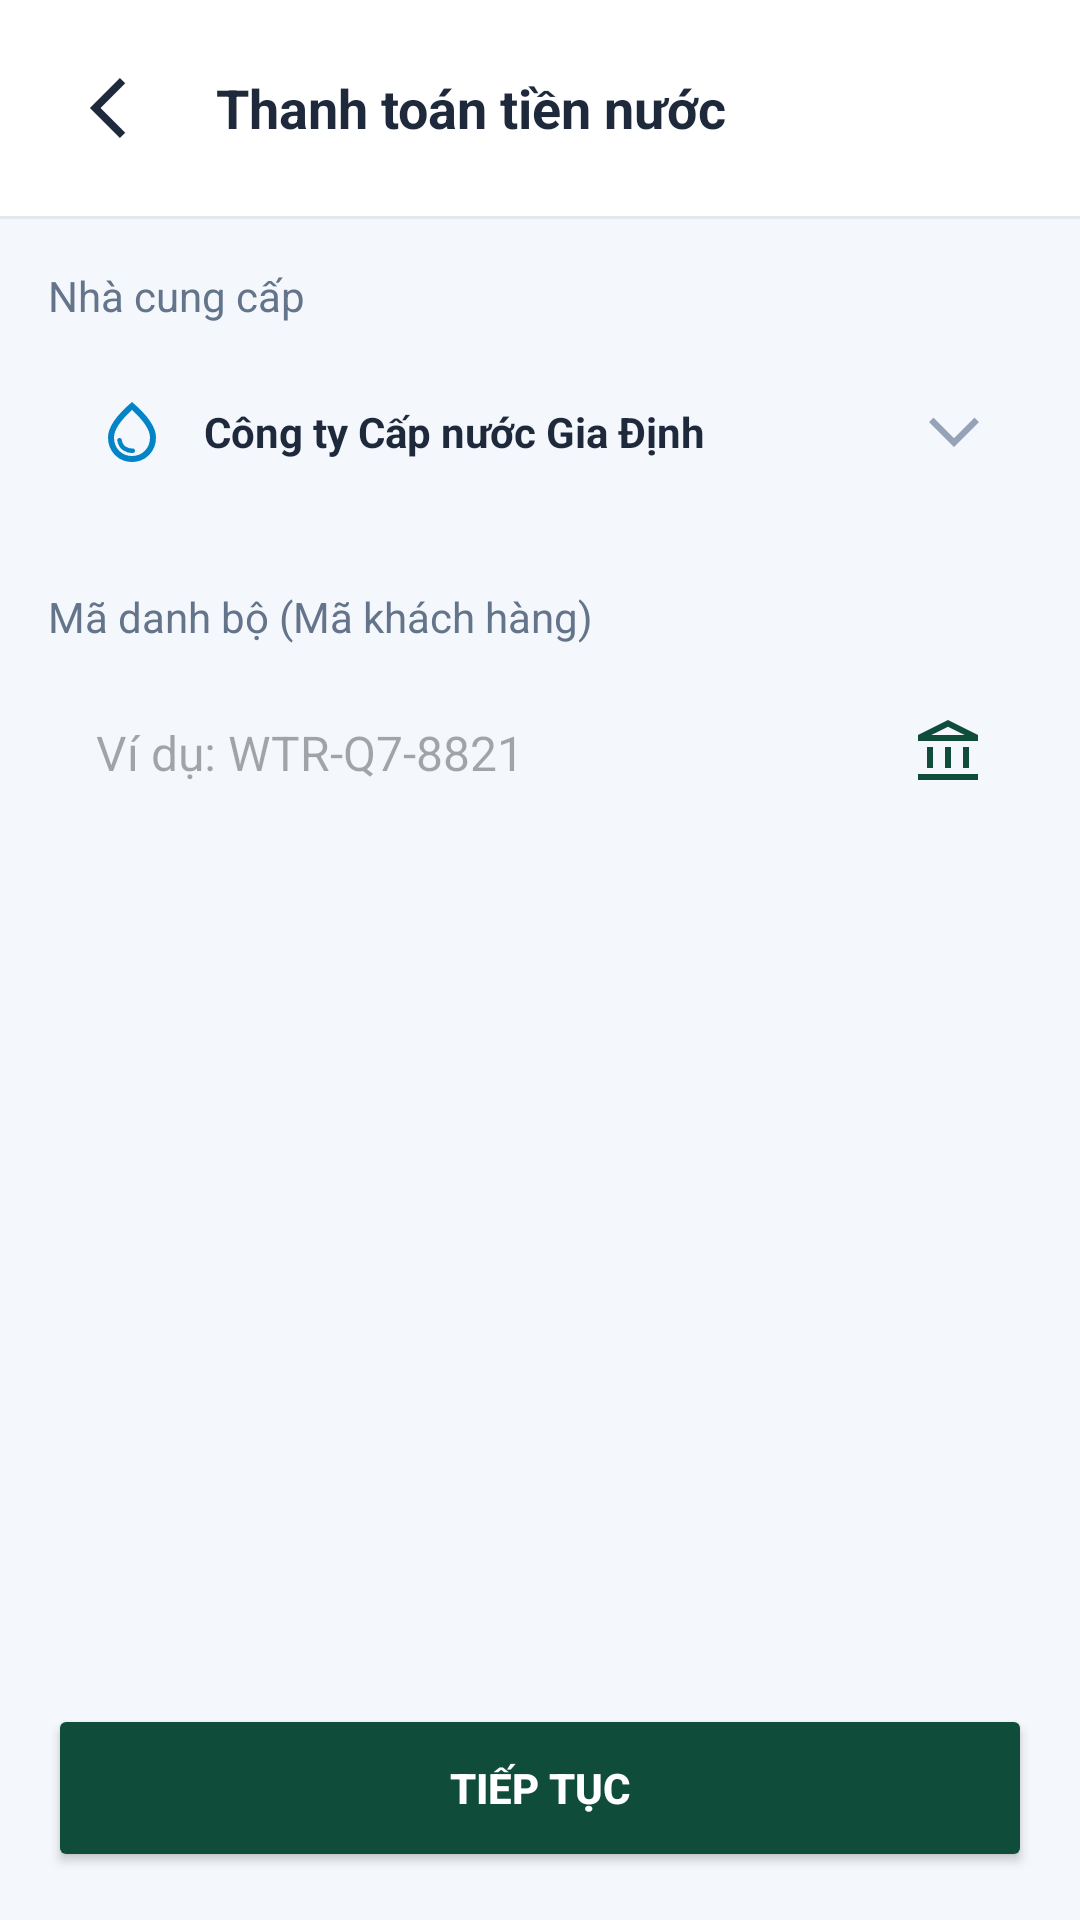

Icon click points for this 1080w x 1920h phone screenshot, format point (x, y):
account balance: point (948, 750)
water drop: point (132, 432)
